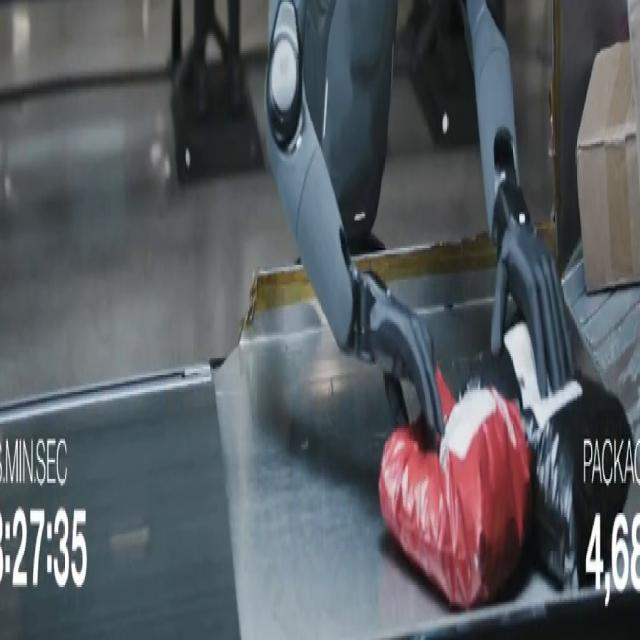package: (469, 323, 634, 587), (379, 373, 532, 610), (576, 43, 639, 292), (628, 0, 639, 131)
